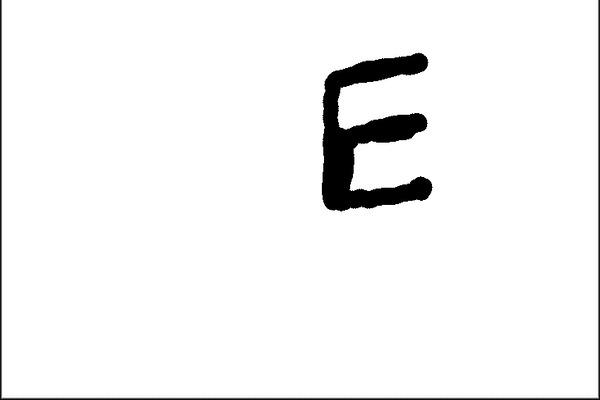E: (314, 48, 437, 213)
